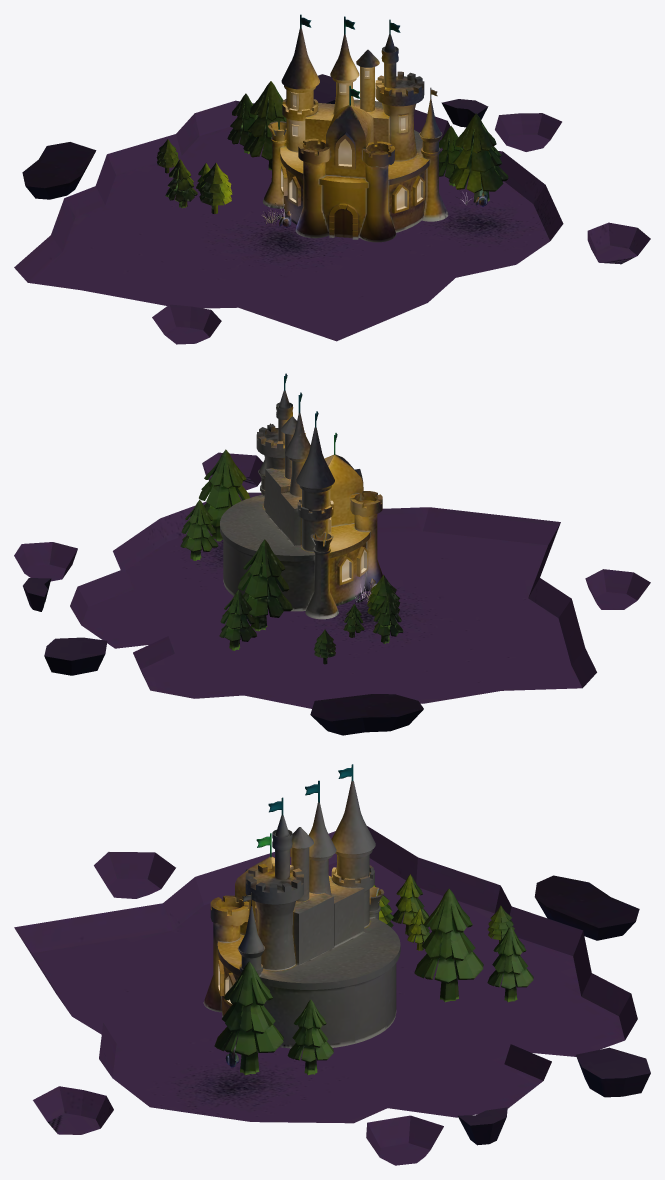
The model's file is chateau-baked.glb.
The picture shows the model from 3 angles, top to bottom: view 1: azimuth 30°, elevation 25°; view 2: azimuth 150°, elevation 25°; view 3: azimuth 270°, elevation 25°; orthographic projection. The views are drawn at different scales.
Parts seen in each view (by area): view 1: baked-0; view 2: baked-0; view 3: baked-0.
Part boxes in pixels (bbox=[...]): baked-0: bbox=[14, 14, 650, 344]; baked-0: bbox=[14, 373, 650, 735]; baked-0: bbox=[14, 764, 650, 1165].
Bounding box in the file's own units: 33.07 × 11.65 × 27.11.
1 material, 1 textured.
